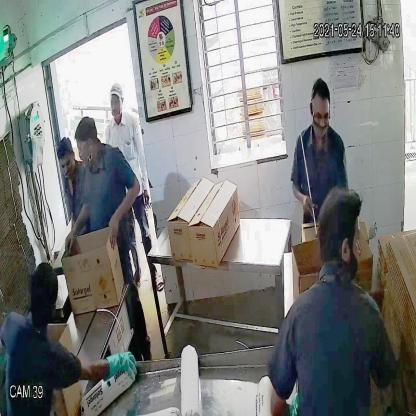goggles: (309, 100, 331, 126)
no_goggles: (109, 97, 122, 108)
